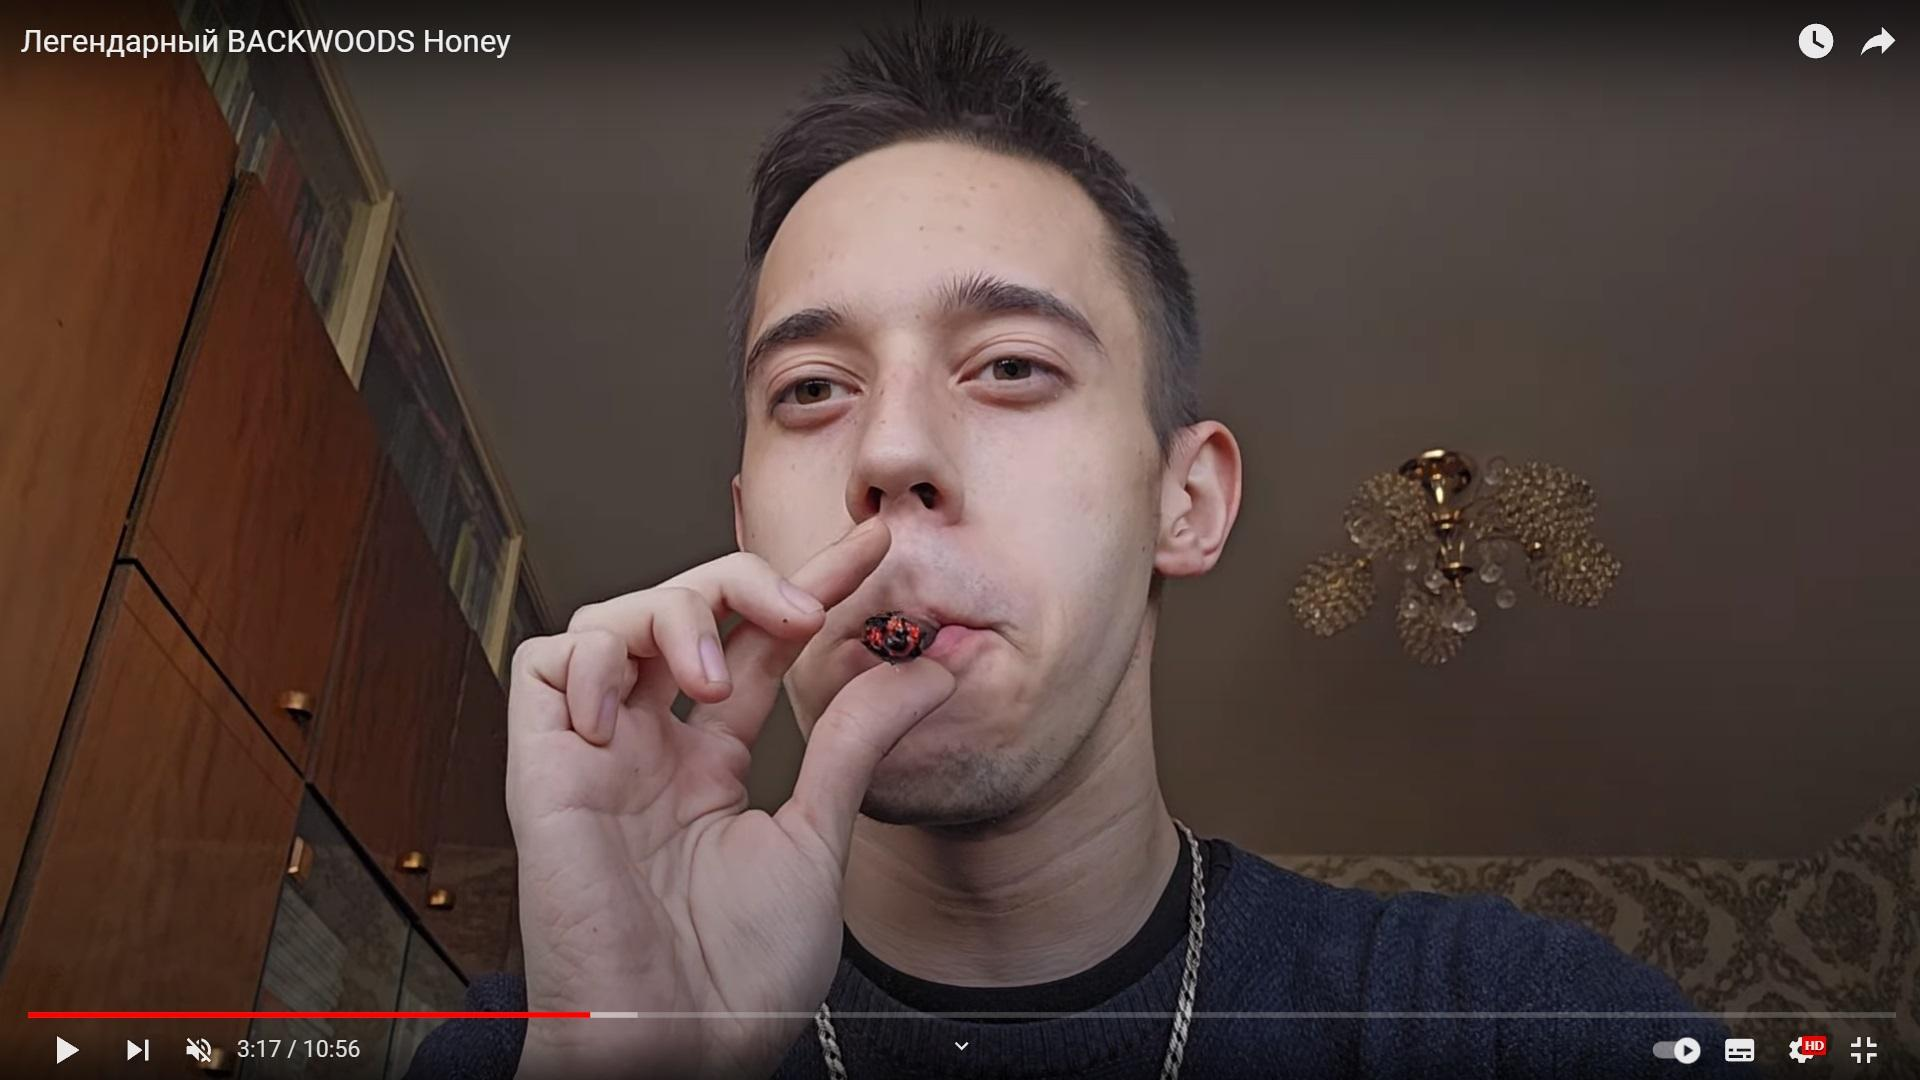cigarette: (860, 609, 943, 665)
